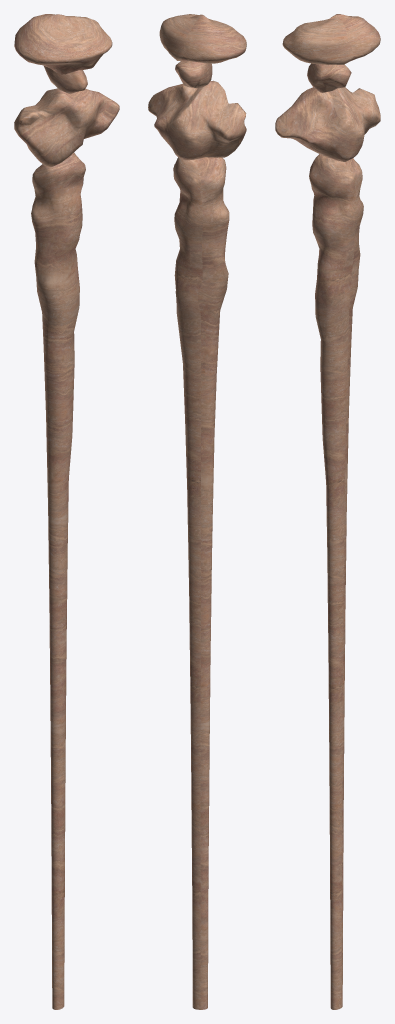
The model's file is Ob_RockPillar1.fbx.
3 views of the same model, side by side, from view 1: azimuth 90°, elevation 25°; view 2: azimuth 210°, elevation 25°; view 3: azimuth 270°, elevation 25° (orthographic).
Parts seen in each view (by area): view 1: Ob_RockPillar1; view 2: Ob_RockPillar1; view 3: Ob_RockPillar1.
Boxes of the visible parts, x1=… form: Ob_RockPillar1: x1=14, y1=14, x2=119, y2=1009; Ob_RockPillar1: x1=148, y1=14, x2=246, y2=1009; Ob_RockPillar1: x1=275, y1=14, x2=380, y2=1009.
Size of the model in its own units: 7897 by 102737 by 9910.
